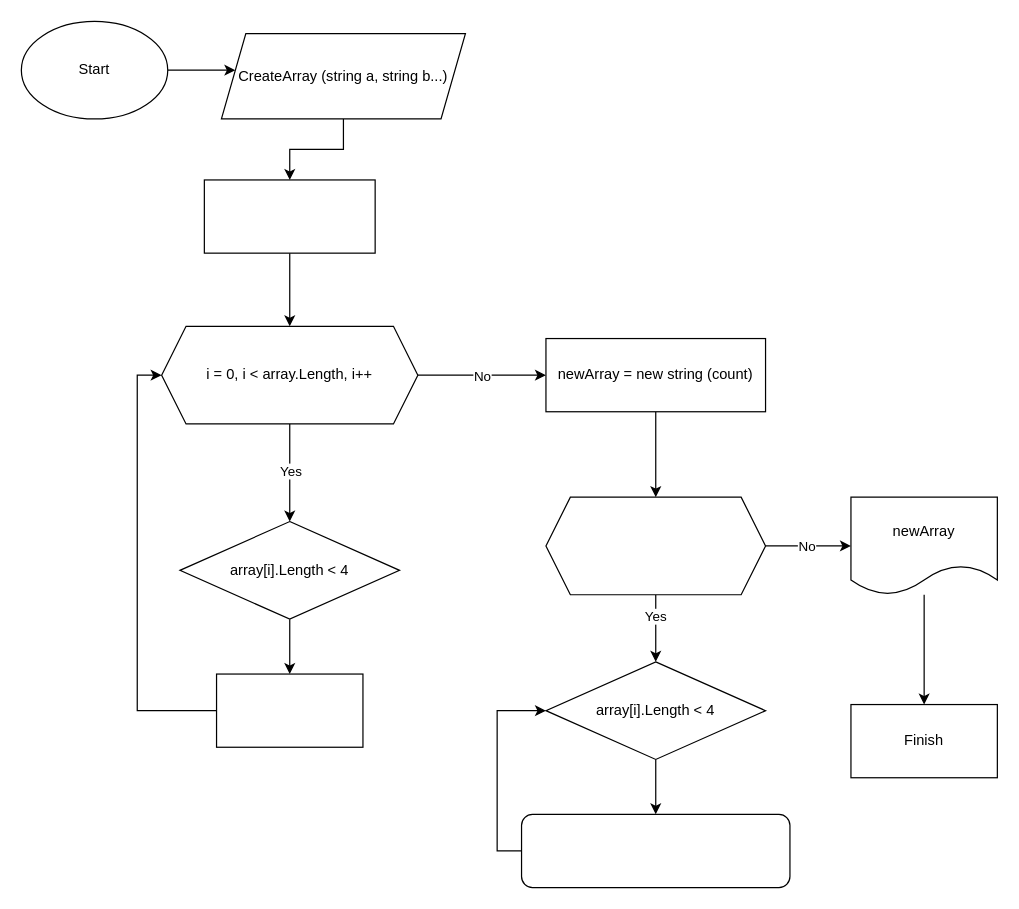
This 1019x909 diagram has some shape labels left out. Each missing label, with the centre of its shape:
"count++" belongs at (x=289, y=710).
"i = 0, i = array.Length, i++" belongs at (x=655, y=545).
"index = 0 count = 0" belongs at (x=289, y=216).
"newArray[index] = array [i] index ++" belongs at (x=655, y=850).
